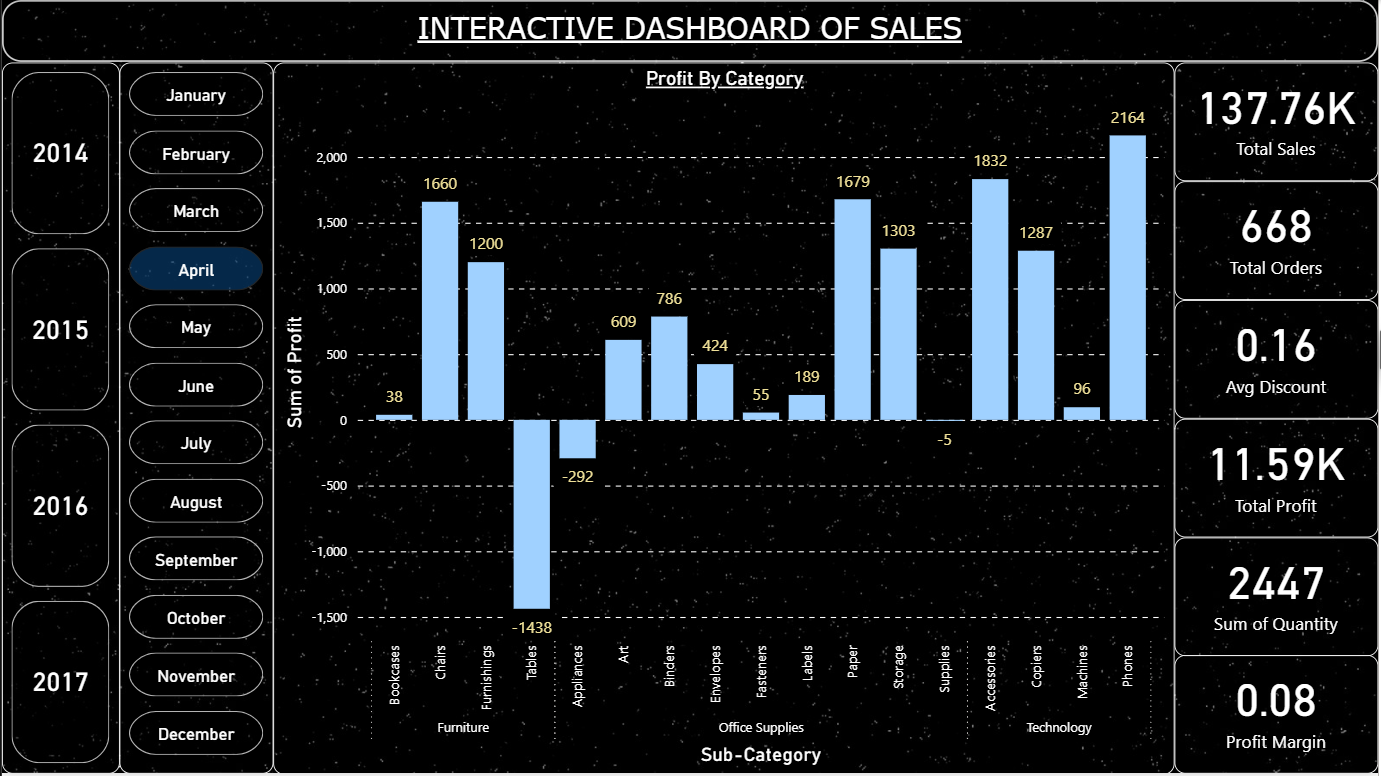

The dashboard page shown, as its layout file describes it:
{"tool":"powerbi","page":{"name":"Page 1","canvas":[1280,720],"ordinal":0},"visuals":[{"type":"textbox","box":[0,0,1280.3,57.6],"z":0},{"type":"card","fields":{"Values":["Superstore.Total Sales"]},"box":[1090.7,58.1,189.5,110.5],"z":1000},{"type":"card","fields":{"Values":["Superstore.Total Orders"]},"box":[1090.7,168.6,189.5,110.5],"z":2000},{"type":"card","fields":{"Values":["Superstore.Avg Discount"]},"box":[1090.7,279.1,189.5,110.5],"z":3000},{"type":"card","fields":{"Values":["Superstore.Total Profit"]},"box":[1090.7,389.5,189.5,110.5],"z":4000},{"type":"columnChart","title":"Profit By Category","fields":{"Category":["Superstore.Category","Superstore.Sub-Category"],"Y":["Sum(Superstore.Profit)"]},"box":[252.3,58.1,838.4,662.8],"z":5000},{"type":"advancedSlicerVisual","fields":{"Values":["Superstore.Order Date.Variation.Date Hierarchy.Year"]},"box":[0,58.1,109.3,661.6],"z":6000},{"type":"advancedSlicerVisual","fields":{"Values":["Superstore.Order Date.Variation.Date Hierarchy.Month"]},"box":[109.3,58.1,143,661.6],"z":7000},{"type":"card","fields":{"Values":["Sum(Superstore.Quantity)"]},"box":[1090.7,500,189.5,110.5],"z":8000},{"type":"card","fields":{"Values":["Superstore.Profit Margin"]},"box":[1090.7,609.3,189.5,110.5],"z":9000}]}

Visuals, with their boxes in screenshot pixels (x1, y1, x2, y2), scaled from the page's 1280x720 canvas onto the 1381x776 screenshot:
textbox: 0:0:1380:62
card - Superstore.Total Sales: 1177:63:1380:182
card - Superstore.Total Orders: 1177:182:1380:301
card - Superstore.Avg Discount: 1177:301:1380:420
card - Superstore.Total Profit: 1177:420:1380:539
"Profit By Category" columnChart: 272:63:1177:775
advancedSlicerVisual - Superstore.Order Date.Variation.Date Hierarchy.Year: 0:63:118:775
advancedSlicerVisual - Superstore.Order Date.Variation.Date Hierarchy.Month: 118:63:272:775
card - Sum(Superstore.Quantity): 1177:539:1380:658
card - Superstore.Profit Margin: 1177:657:1380:775
